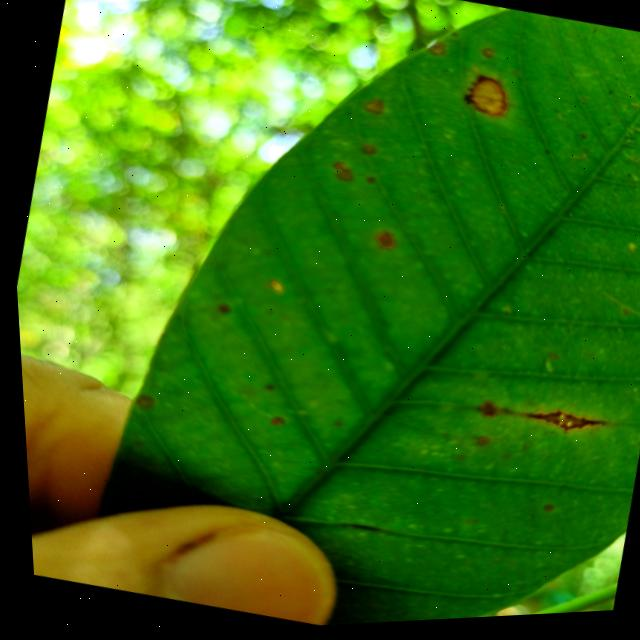Corynespora: (513, 404, 603, 450)
